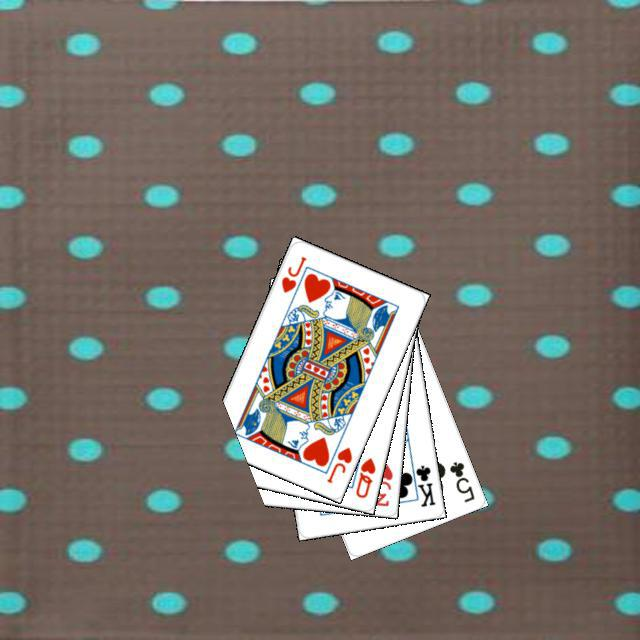3h: (370, 459, 394, 508)
5c: (444, 456, 476, 504)
Jh: (322, 442, 354, 485), (276, 252, 308, 295)
Kc: (406, 457, 437, 509)
Qh: (351, 453, 377, 500)
